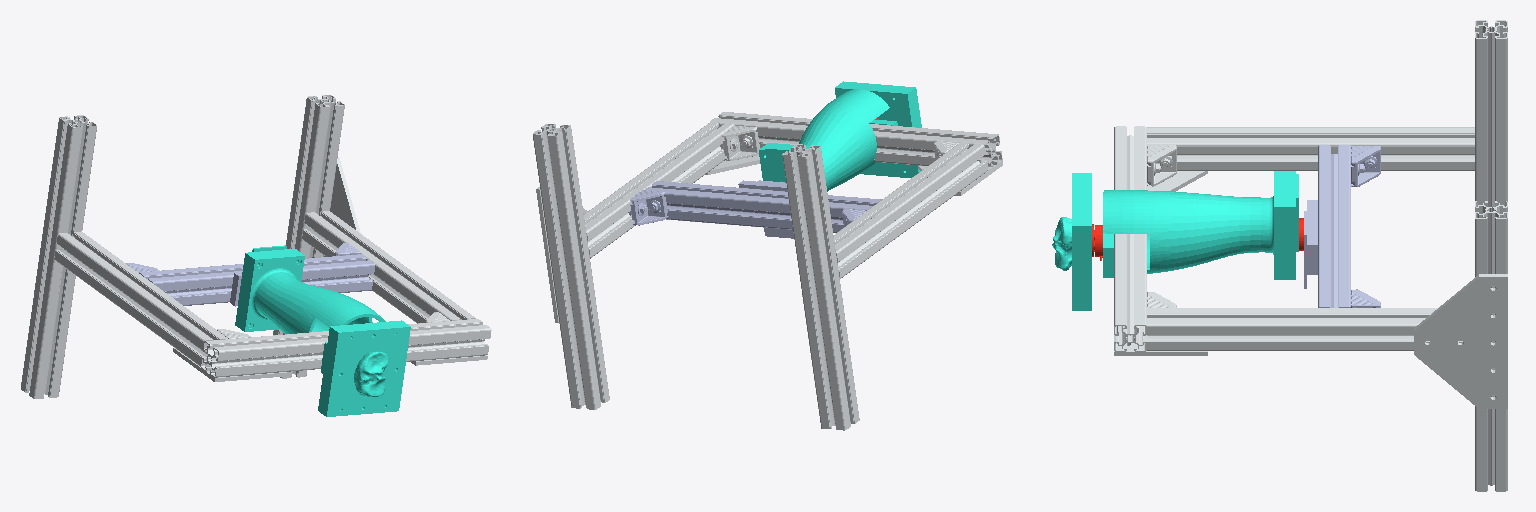
The robot description file, URDF, robot "brace_bottom_setup_brace":
<?xml version="1.0" encoding="utf-8"?>
<!-- This URDF was automatically created by SolidWorks to URDF Exporter! Originally created by [author] ([email redacted]) 
     Commit Version: 1.6.0-4-g7f85cfe  Build Version: 1.6.7995.38578
     For more information, please see http://wiki.ros.org/sw_urdf_exporter -->
<robot
  name="brace_bottom_setup_brace">
  <link
    name="base_link">
    <inertial>
      <origin
        xyz="-0.161065236312194 0.110485563767449 0.835255831538516"
        rpy="0 0 0" />
       <mass
        value="0.484520226346476" />
      <inertia
        ixx="0.000593462876483837"
        ixy="1.41512778058239E-15"
        ixz="1.63392009068906E-14"
        iyy="0.000593462876646573"
        iyz="8.65419307429367E-15"
        izz="0.00116993054766495" />
    </inertial>
    <visual>
      <origin
        xyz="0 0 0"
        rpy="0 0 0" />
      <geometry>
        <mesh
          filename="package://brace_bottom_setup_brace/meshes/base_link.STL" />
      </geometry>
      <material
        name="">
        <color
          rgba="0.898039215686275 0.917647058823529 0.929411764705882 1" />
      </material>
    </visual>
    <collision>
      <origin
        xyz="0 0 0"
        rpy="0 0 0" />
      <geometry>
        <mesh
          filename="package://brace_bottom_setup_brace/meshes/base_link.STL" />
      </geometry>
    </collision>
  </link>
  <link
    name="Link1">
    <inertial>
      <origin
        xyz="-0.0202631264951819 0.202532238386646 -0.0302147065589961"
        rpy="0 0 0" />
       <mass
        value="0.144521976607445" />
      <inertia
        ixx="2.31497032446631E-05"
        ixy="3.3256520782418E-08"
        ixz="-2.70019071568062E-09"
        iyy="2.31765300111381E-05"
        iyz="-1.83348553501547E-08"
        izz="3.99089353738949E-05" />
    </inertial>
    <visual>
      <origin
        xyz="0 0 0"
        rpy="0 0 0" />
      <geometry>
        <mesh
          filename="package://brace_bottom_setup_brace/meshes/Link1.STL" />
      </geometry>
      <material
        name="">
        <color
          rgba="0.792156862745098 0.819607843137255 0.933333333333333 1" />
      </material>
    </visual>
    <collision>
      <origin
        xyz="0 0 0"
        rpy="0 0 0" />
      <geometry>
        <mesh
          filename="package://brace_bottom_setup_brace/meshes/Link1.STL" />
      </geometry>
    </collision>
  </link>
  <joint
    name="Joint1"
    type="fixed">
    <origin
      xyz="0.0034639279539304 0.117367542402841 0.841449957714401"
      rpy="1.5707963267949 -1.41769797329821 0" />
    <parent
      link="base_link" />
    <child
      link="Link1" />
    <axis
      xyz="0 0 0" />
  </joint>
  <link
    name="Link3">
    <inertial>
      <origin
        xyz="4.16922011764465E-05 -2.46796216818446E-06 0.00800716410301734"
        rpy="0 0 0" />
      <mass
        value="2.41169" />
      <inertia
        ixx="2.97776929321797E-06"
        ixy="3.36295578566821E-09"
        ixz="-3.23975820788438E-09"
        iyy="2.97475924920529E-06"
        iyz="-2.07975997581998E-09"
        izz="5.12744677166642E-06" />
    </inertial>
    <visual>
      <origin
        xyz="0 0 0"
        rpy="0 0 0" />
      <geometry>
        <mesh
          filename="package://brace_bottom_setup_brace/meshes/Link3.STL" />
      </geometry>
      <material
        name="">
        <color
          rgba="1 0.243137254901961 0.176470588235294 1" />
      </material>
    </visual>
    <collision>
      <origin
        xyz="0 0 0"
        rpy="0 0 0" />
      <geometry>
        <mesh
          filename="package://brace_bottom_setup_brace/meshes/Link3.STL" />
      </geometry>
    </collision>
  </link>
  <joint
    name="Joint3"
    type="fixed">
    <origin
      xyz="-0.0220204740295803 0.21499890653722 0.0149999999999984"
      rpy="0 0 0" />
    <parent
      link="Link1" />
    <child
      link="Link3" />
    <axis
      xyz="0 0 0" />
  </joint>
  <link
    name="Link4">
    <inertial>
      <origin
        xyz="-0.00178532753717764 -0.00941691082288376 0.127945007693628"
        rpy="0 0 0" />
      <mass
        value="1.25386550462557" />
      <inertia
        ixx="0.00407318274016092"
        ixy="5.84631473223185E-06"
        ixz="3.16397676922428E-05"
        iyy="0.00529604237316004"
        iyz="0.000271405030882995"
        izz="0.00256386223614875" />
    </inertial>
    <visual>
      <origin
        xyz="0 0 0"
        rpy="0 0 0" />
      <geometry>
        <mesh
          filename="package://brace_bottom_setup_brace/meshes/Link4.STL" />
      </geometry>
      <material
        name="">
        <color
          rgba="0.294117647058824 1 0.92156862745098 1" />
      </material>
    </visual>
    <collision>
      <origin
        xyz="0 0 0"
        rpy="0 0 0" />
      <geometry>
        <mesh
          filename="package://brace_bottom_setup_brace/meshes/Link4.STL" />
      </geometry>
    </collision>
  </link>
  <joint
    name="Joint4"
    type="fixed">
    <origin
      xyz="2.00211044838472E-05 0 0.015748"
      rpy="0 0 0" />
    <parent
      link="Link3" />
    <child
      link="Link4" />
    <axis
      xyz="0 0 0" />
  </joint>
  <link
    name="Link2">
    <inertial>
      <origin
        xyz="1.11022302462516E-16 -1.11022302462516E-16 0.00757261334530798"
        rpy="0 0 0" />
      <mass
        value="0.0787348629786105" />
      <inertia
        ixx="8.04126454340158E-05"
        ixy="-2.66815378385104E-20"
        ixz="-3.39286542255851E-21"
        iyy="1.82773934465539E-05"
        iyz="2.13495040903858E-21"
        izz="9.5764992084203E-05" />
    </inertial>
    <visual>
      <origin
        xyz="0 0 0"
        rpy="0 0 0" />
      <geometry>
        <mesh
          filename="package://brace_bottom_setup_brace/meshes/Link2.STL" />
      </geometry>
      <material
        name="">
        <color
          rgba="0.294117647058824 1 0.92156862745098 1" />
      </material>
    </visual>
    <collision>
      <origin
        xyz="0 0 0"
        rpy="0 0 0" />
      <geometry>
        <mesh
          filename="package://brace_bottom_setup_brace/meshes/Link2.STL" />
      </geometry>
    </collision>
  </link>
  <joint
    name="Joint2"
    type="fixed">
    <origin
      xyz="-0.197551739054546 -0.162632485347158 0.85020747406393"
      rpy="1.5707963267949 -1.41769797329821 0" />
    <parent
      link="base_link" />
    <child
      link="Link2" />
    <axis
      xyz="0 0 0" />
  </joint>
  <link
    name="Link5">
    <inertial>
      <origin
        xyz="2.19923399870092E-05 -3.94463032654668E-06 0.0080071640213939"
        rpy="0 0 0" />
      <mass
        value="0.0185862466941427" />
      <inertia
        ixx="2.97776932985555E-06"
        ixy="3.36293092475297E-09"
        ixz="-3.23976928932056E-09"
        iyy="2.97475927565072E-06"
        iyz="-2.07977359268383E-09"
        izz="5.12744682262178E-06" />
    </inertial>
    <visual>
      <origin
        xyz="0 0 0"
        rpy="0 0 0" />
      <geometry>
        <mesh
          filename="package://brace_bottom_setup_brace/meshes/Link5.STL" />
      </geometry>
      <material
        name="">
        <color
          rgba="1 0.243137254901961 0.176470588235294 1" />
      </material>
    </visual>
    <collision>
      <origin
        xyz="0 0 0"
        rpy="0 0 0" />
      <geometry>
        <mesh
          filename="package://brace_bottom_setup_brace/meshes/Link5.STL" />
      </geometry>
    </collision>
  </link>
  <joint
    name="Joint5"
    type="fixed">
    <origin
      xyz="0 0 0.015"
      rpy="0 0 0" />
    <parent
      link="Link2" />
    <child
      link="Link5" />
    <axis
      xyz="0 0 0" />
  </joint>
  <link
    name="Link6">
    <inertial>
      <origin
        xyz="-6.92646431987853E-06 6.92646432443045E-06 0.00749130893707592"
        rpy="0 0 0" />
      <mass
        value="0.270541546668934" />
      <inertia
        ixx="0.000387821695433985"
        ixy="-3.78139448229862E-08"
        ixz="1.18218332762343E-08"
        iyy="0.000447338177896929"
        iyz="-1.18218332762338E-08"
        izz="0.000825030594997828" />
    </inertial>
    <visual>
      <origin
        xyz="0 0 0"
        rpy="0 0 0" />
      <geometry>
        <mesh
          filename="package://brace_bottom_setup_brace/meshes/Link6.STL" />
      </geometry>
      <material
        name="">
        <color
          rgba="0.294117647058824 1 0.92156862745098 1" />
      </material>
    </visual>
    <collision>
      <origin
        xyz="0 0 0"
        rpy="0 0 0" />
      <geometry>
        <mesh
          filename="package://brace_bottom_setup_brace/meshes/Link6.STL" />
      </geometry>
    </collision>
  </link>
  <joint
    name="Joint6"
    type="fixed">
    <origin
      xyz="-0.00502055183810024 0.00502049020968376 0.0157480000000001"
      rpy="0 0 0" />
    <parent
      link="Link5" />
    <child
      link="Link6" />
    <axis
      xyz="0 0 0" />
  </joint>
</robot>

--- What the picture shows (computed from the rendered views, not written in the file) ---
3 views of the same robot in one strip: view 1: azimuth 30°, elevation 25°; view 2: azimuth 150°, elevation 25°; view 3: azimuth 270°, elevation 25° (orthographic).
Model brace_bottom_setup_brace with 7 links and 6 joints (6 fixed), rooted at base_link, posed every joint at zero.
Visible links, largest first — view 1: base_link, Link4, Link6, Link1; view 2: base_link, Link1, Link4, Link6; view 3: base_link, Link4, Link1, Link6.
Boxes of the visible links, x1,y1,x2,y2 form: base_link: (21, 95, 491, 398); Link4: (235, 245, 385, 333); Link6: (318, 320, 410, 416); Link1: (126, 243, 374, 306); base_link: (533, 112, 1002, 430); Link1: (629, 180, 881, 238); Link4: (759, 89, 889, 191); Link6: (835, 81, 921, 177); base_link: (1114, 20, 1507, 491); Link4: (1103, 171, 1298, 279); Link1: (1304, 145, 1380, 307); Link6: (1052, 173, 1091, 310).
Bounding box of the posed robot: 0.5529 × 0.625 × 0.5195 m (x, y, z).
Meshes: 7 distinct files referenced, 7 mesh visuals loaded (7 binary STL).